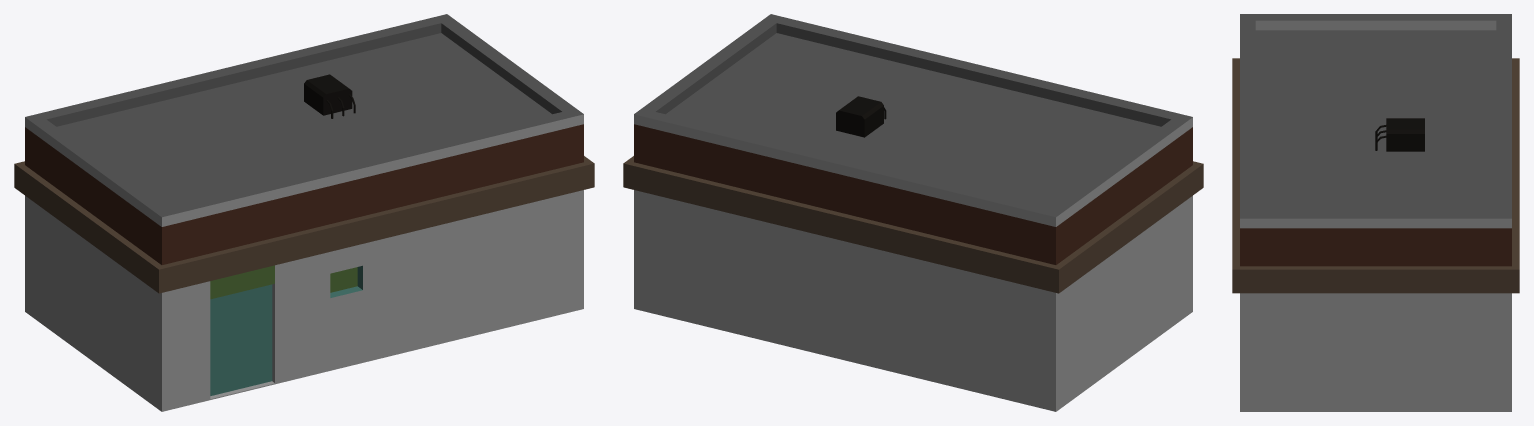
The model's file is Butikk01.FBX.
3 views of the same model, side by side, from view 1: azimuth 30°, elevation 25°; view 2: azimuth 150°, elevation 25°; view 3: azimuth 270°, elevation 25° (orthographic).
Parts seen in each view (by area): view 1: Butikk; view 2: Butikk; view 3: Butikk.
Part boxes in pixels (bbox=[...]): Butikk: bbox=[14, 14, 594, 411]; Butikk: bbox=[623, 14, 1203, 411]; Butikk: bbox=[1232, 14, 1519, 411].
Size of the model in its own units: 1457 by 657 by 838.
